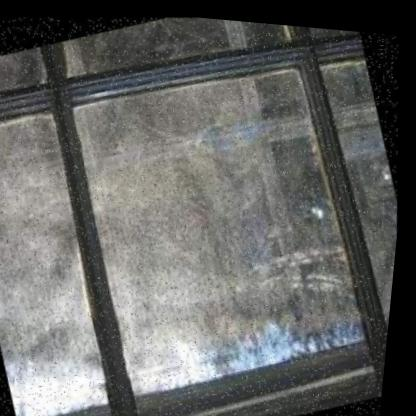Window: (33, 18, 415, 416)
